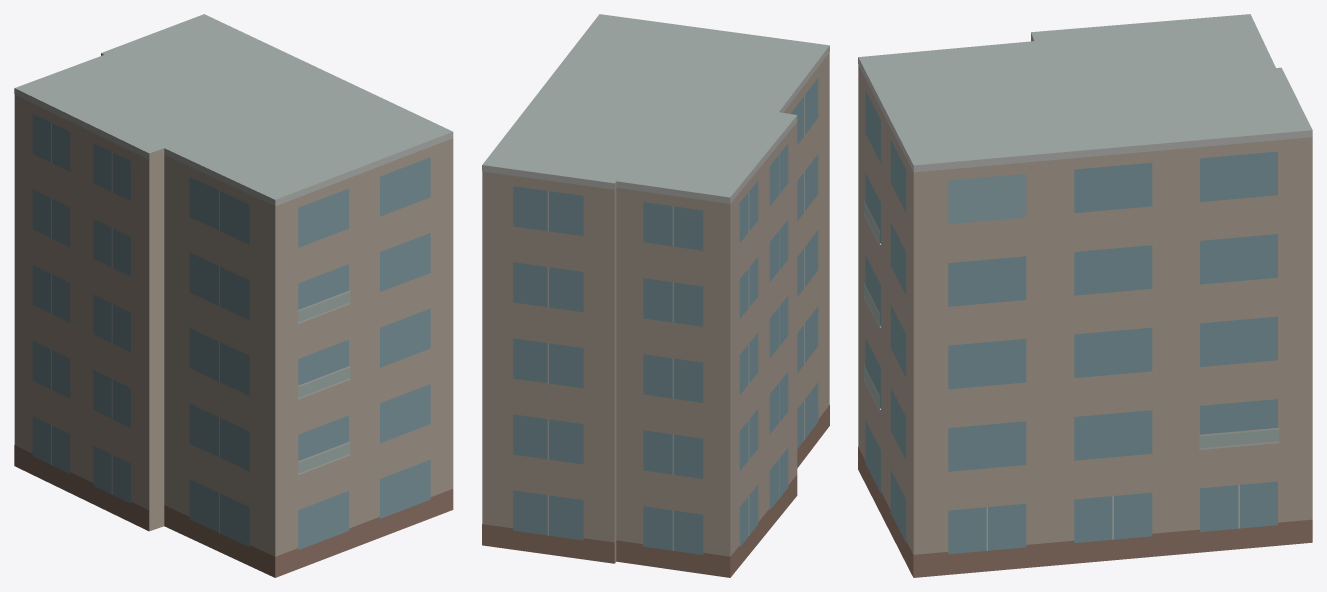
Rendered from survey-upis-32650488.glb.
3 renders of one model, left to right at view 1: azimuth 30°, elevation 25°; view 2: azimuth 150°, elevation 25°; view 3: azimuth 270°, elevation 25°, orthographic. The views are drawn at different scales.
Parts seen in each view (by area): view 1: survey-upis-32650488.tmp; view 2: survey-upis-32650488.tmp; view 3: survey-upis-32650488.tmp.
Boxes of the visible parts, <box> form: survey-upis-32650488.tmp: <box>14,14,453,577</box>; survey-upis-32650488.tmp: <box>482,14,829,577</box>; survey-upis-32650488.tmp: <box>858,14,1312,577</box>.
Size of the model in its own units: 11.37 by 14.43 by 14.42.
